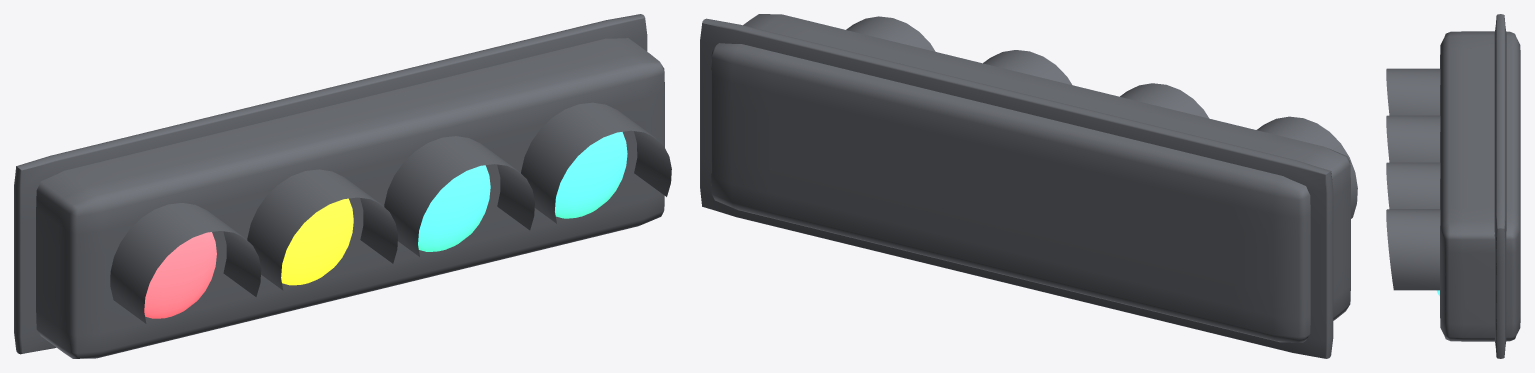
Rendered from tesla_fsd_traffic_light_head.glb.
The picture shows the model from 3 angles, left to right: view 1: azimuth 30°, elevation 25°; view 2: azimuth 150°, elevation 25°; view 3: azimuth 270°, elevation 25°; orthographic projection. The views are drawn at different scales.
Visible parts, largest first — view 1: TeslaFSDTrafficLightHead; view 2: TeslaFSDTrafficLightHead; view 3: TeslaFSDTrafficLightHead.
Part boxes in pixels (x1,y1,x2,y2): TeslaFSDTrafficLightHead: (14,14,671,358); TeslaFSDTrafficLightHead: (700,14,1357,358); TeslaFSDTrafficLightHead: (1386,14,1520,358).
Size of the model in its own units: 1.52 by 0.44 by 0.4.
